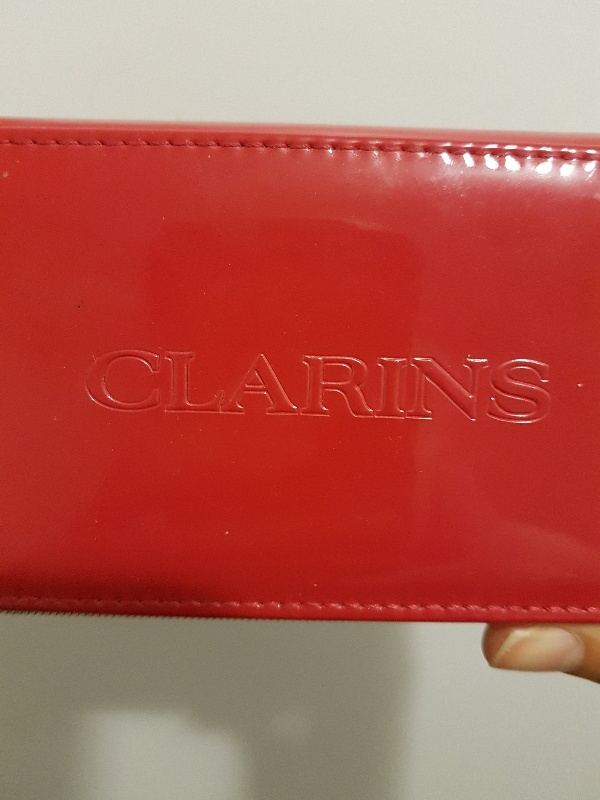text: (97, 347, 112, 426), (113, 347, 128, 426), (129, 347, 144, 426), (145, 347, 160, 426), (161, 347, 176, 426), (177, 347, 192, 426), (193, 347, 208, 426), (209, 347, 224, 426), (225, 347, 240, 426), (241, 347, 256, 426), (257, 347, 272, 426), (273, 347, 288, 426), (289, 347, 304, 426), (305, 347, 320, 426), (321, 347, 336, 426), (337, 347, 352, 426), (353, 347, 368, 426), (369, 347, 384, 426), (385, 347, 400, 426), (401, 347, 416, 426), (417, 347, 432, 426), (433, 347, 448, 426), (449, 347, 464, 426), (465, 347, 480, 426), (481, 347, 496, 426), (497, 347, 512, 426), (513, 347, 528, 426), (529, 347, 544, 426), (85, 347, 96, 426), (545, 347, 554, 426)
